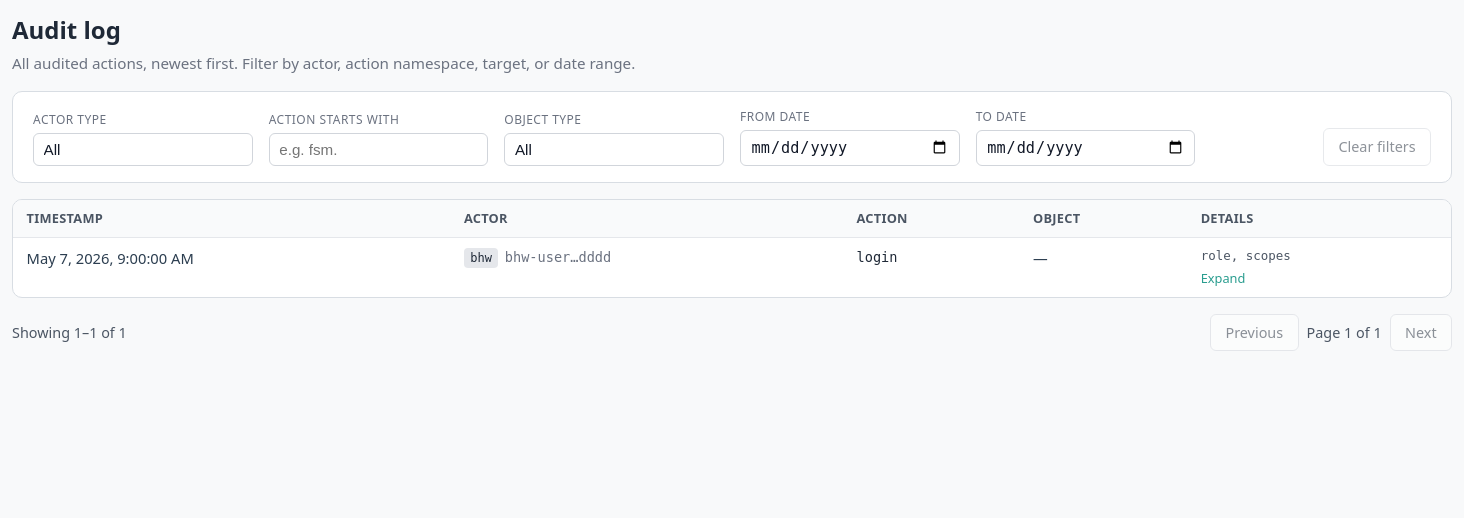
AuditLogPage › expands details JSON on demand
Click the button "Expand" at x=1223, y=279, box [1201, 270, 1245, 289]
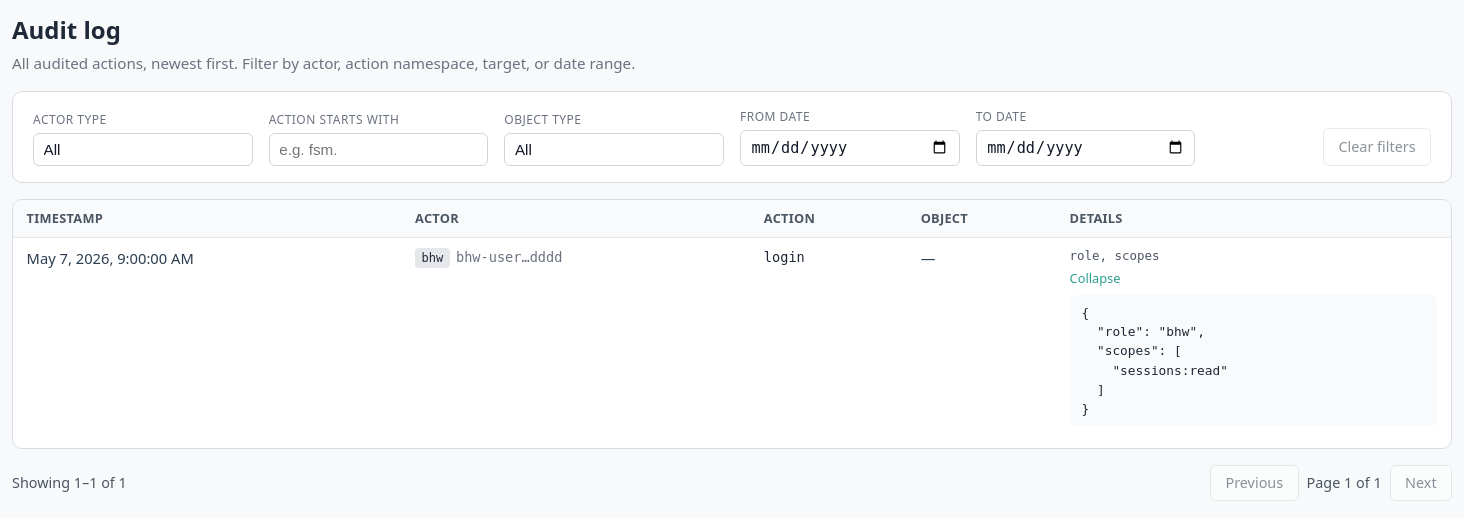
expect the text "{ \"role\": \"bhw\", \"scopes\": [ \"sessions:read\" ] }" is shown: met, box [1070, 295, 1437, 426]
Toggle collapses again.
Click the button "Collapse" at x=1095, y=279, box [1070, 270, 1120, 289]
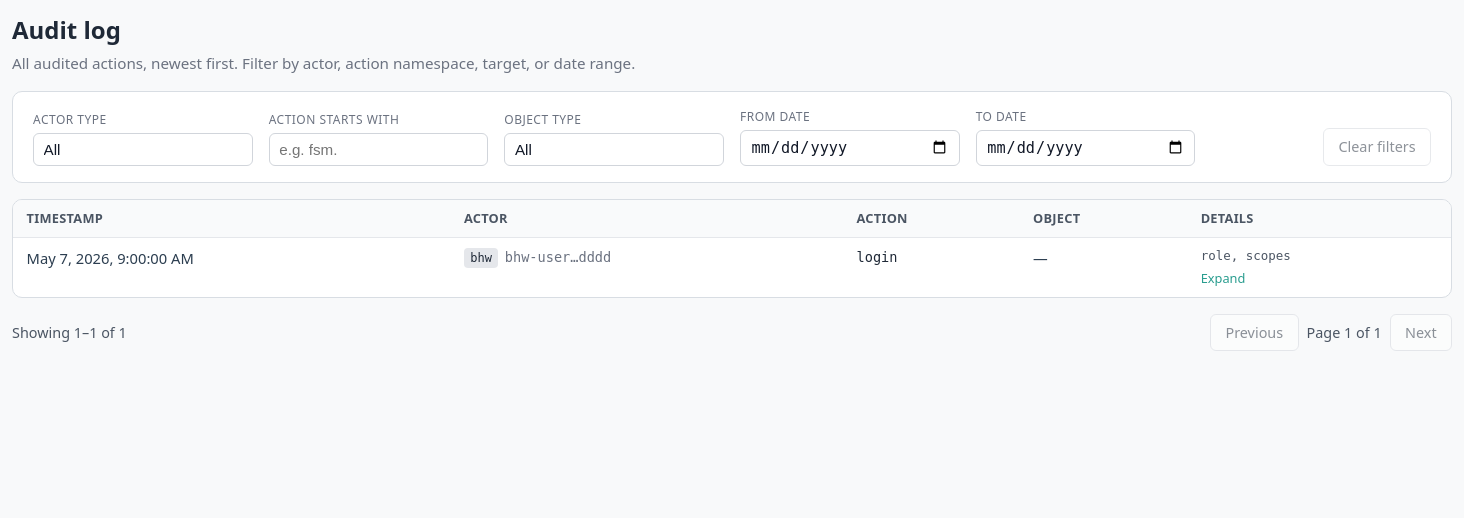
expect the text "\"scopes\":" is gone: met
